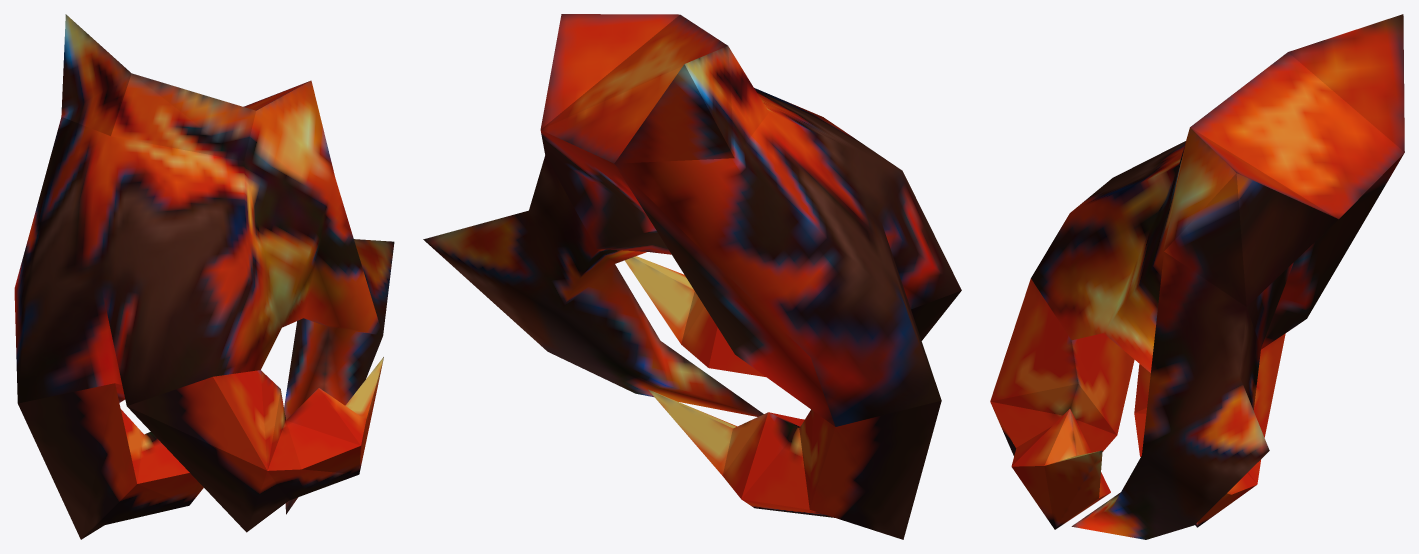
File: 1_Fashi_w_level_07.FBX
3 renders of one model, left to right at view 1: azimuth 30°, elevation 25°; view 2: azimuth 150°, elevation 25°; view 3: azimuth 270°, elevation 25°, orthographic. The views are drawn at different scales.
Visible parts, largest first — view 1: 1_Fashi_w_level_07; view 2: 1_Fashi_w_level_07; view 3: 1_Fashi_w_level_07.
Part boxes in pixels (x1=…): 1_Fashi_w_level_07: x1=14, y1=14, x2=394, y2=539; 1_Fashi_w_level_07: x1=423, y1=14, x2=961, y2=539; 1_Fashi_w_level_07: x1=990, y1=14, x2=1404, y2=539.
Bounding box in the file's own units: 62.59 × 65.44 × 49.44.
1 material, 1 textured.
